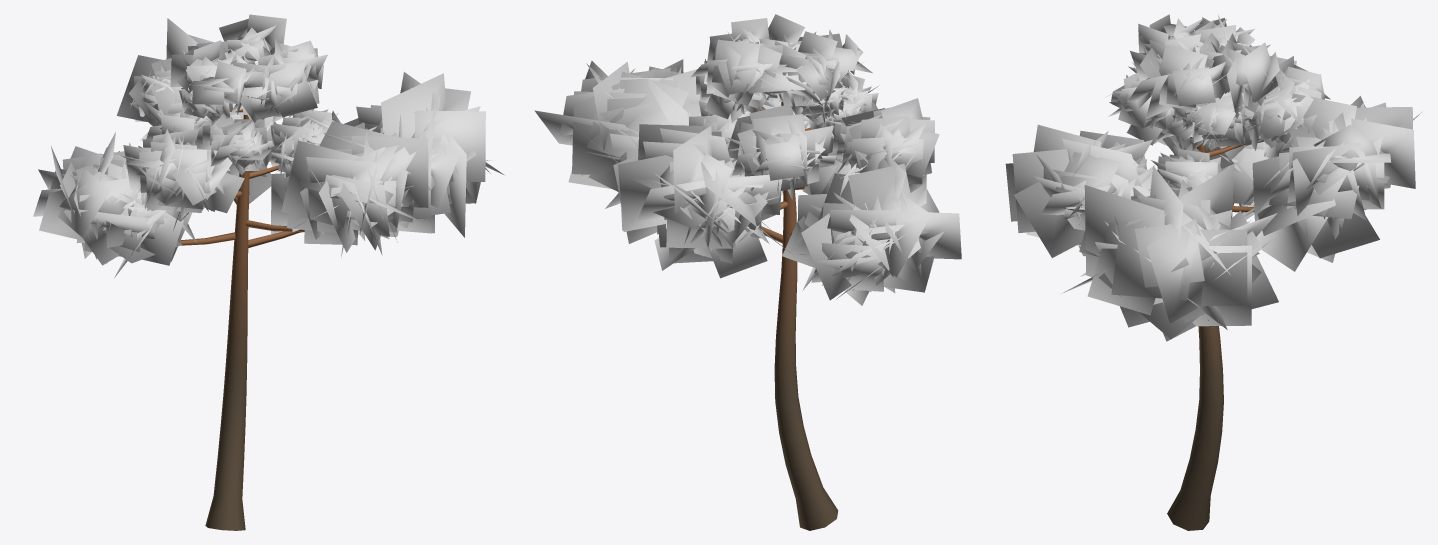
The picture shows the model from 3 angles, left to right: view 1: azimuth 30°, elevation 25°; view 2: azimuth 150°, elevation 25°; view 3: azimuth 270°, elevation 25°; orthographic projection. The views are drawn at different scales.
Parts seen in each view (by area): view 1: crown, trunk; view 2: crown, trunk; view 3: crown, trunk.
Part boxes in pixels (x1,y1,x2,y2): crown: (33,14,503,278); trunk: (180,108,304,530); crown: (534,14,961,305); trunk: (760,102,838,530); crown: (1005,14,1422,341); trunk: (1167,137,1254,530).
Bounding box in the file's own units: 17.79 × 19.17 × 14.7.
